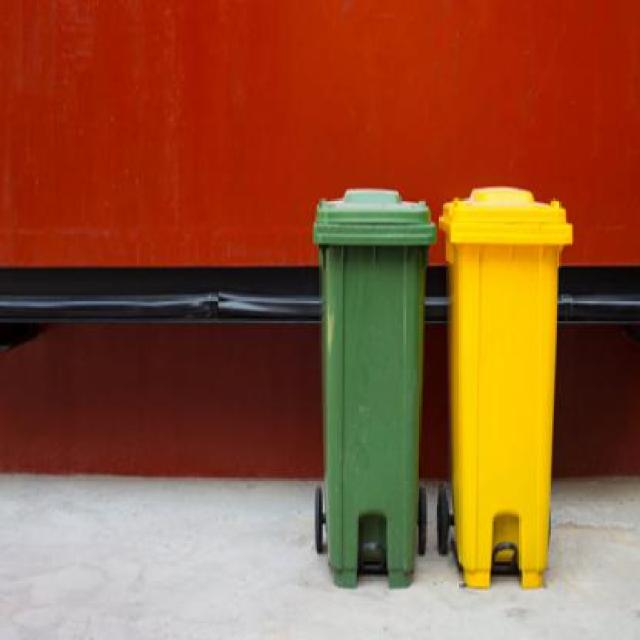garbage container: (434, 170, 578, 604), (300, 180, 438, 612)
